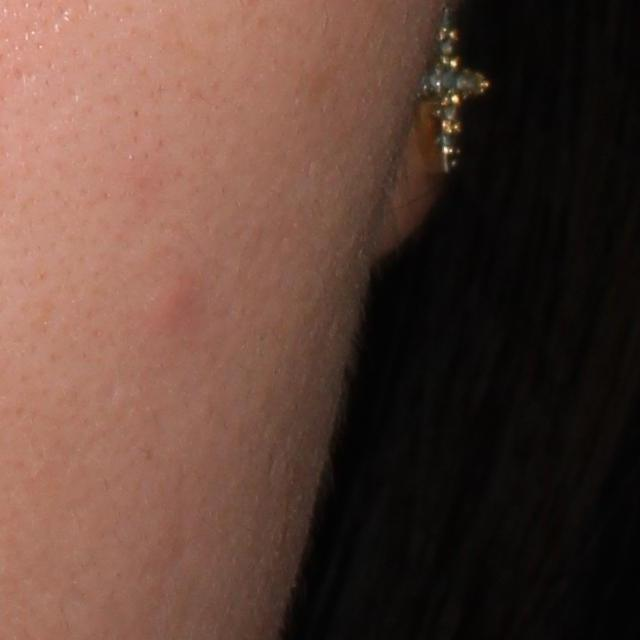papule: (139, 272, 198, 325)
